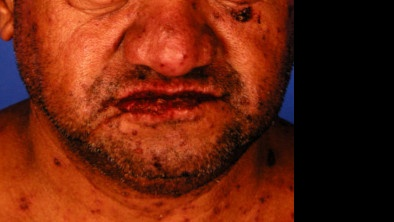SJS-TEN: (88, 67, 245, 146), (209, 3, 265, 26)
